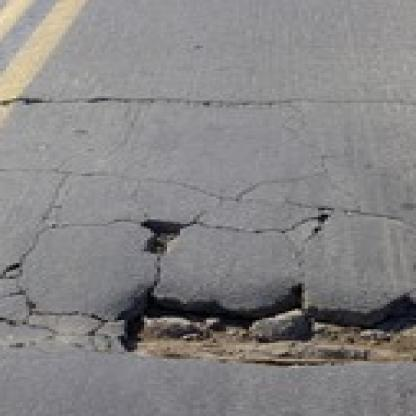pothole: (114, 290, 416, 366), (131, 213, 193, 256)
